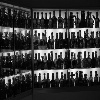beer: (51, 9, 58, 30)
